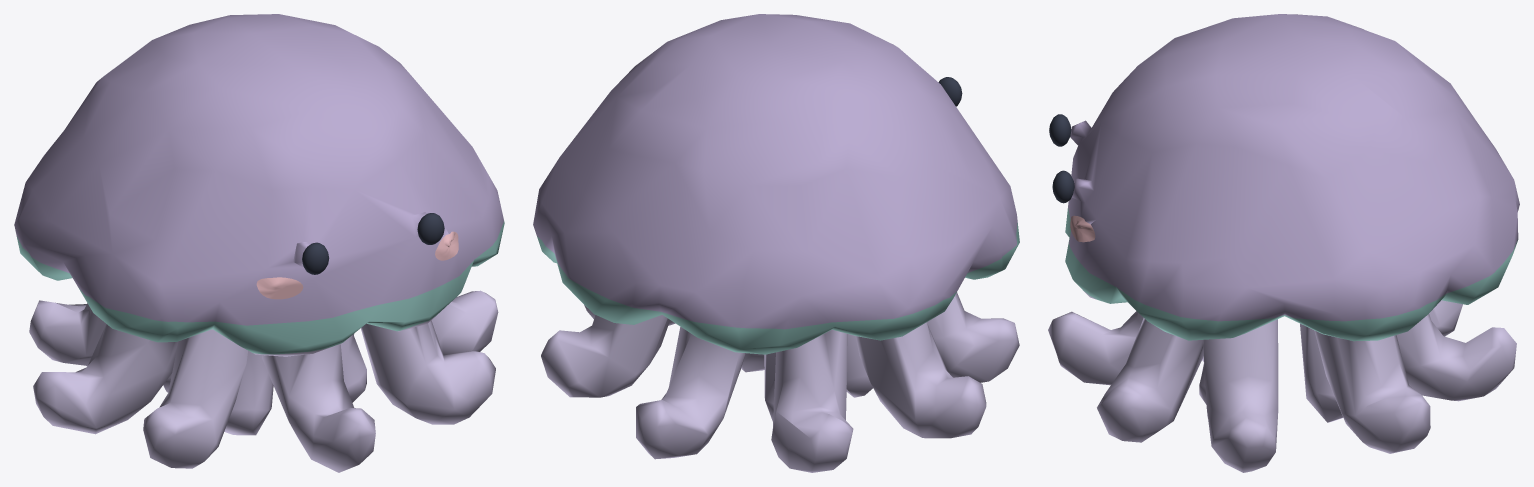
Rendered from jellyfish.glb.
The picture shows the model from 3 angles, left to right: view 1: azimuth 30°, elevation 25°; view 2: azimuth 150°, elevation 25°; view 3: azimuth 270°, elevation 25°; orthographic projection.
Parts seen in each view (by area): view 1: pet-body, pet-tentacles, pet-rim, pet-cheeks, Eye left, Eye right; view 2: pet-body, pet-tentacles, pet-rim; view 3: pet-body, pet-tentacles, pet-rim, Eye left, Eye right, pet-cheeks.
Part boxes in pixels (bbox=[...]): pet-body: bbox=[14, 14, 503, 325]; pet-tentacles: bbox=[29, 290, 498, 472]; pet-rim: bbox=[16, 221, 504, 354]; pet-cheeks: bbox=[256, 231, 458, 299]; Eye left: bbox=[302, 242, 329, 274]; Eye right: bbox=[417, 213, 444, 244]; pet-body: bbox=[533, 14, 1017, 329]; pet-tentacles: bbox=[541, 292, 1019, 472]; pet-rim: bbox=[537, 223, 1019, 354]; pet-body: bbox=[1068, 14, 1519, 321]; pet-tentacles: bbox=[1048, 291, 1516, 472]; pet-rim: bbox=[1065, 208, 1518, 341]; Eye left: bbox=[1049, 114, 1071, 146]; Eye right: bbox=[1052, 170, 1074, 203]; pet-cheeks: bbox=[1070, 215, 1095, 242].
Bounding box in the file's own units: 0.8 × 0.6437 × 0.7625.
